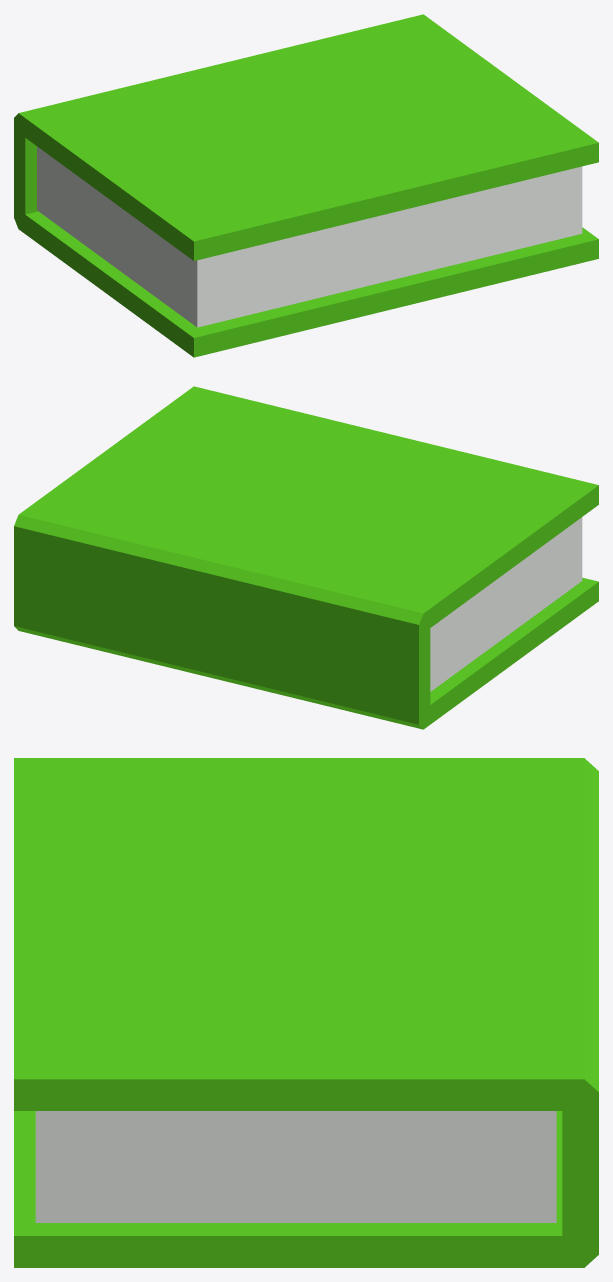
Rendered from Book_1c.fbx.
3 views of the same model, one above another, from view 1: azimuth 30°, elevation 25°; view 2: azimuth 150°, elevation 25°; view 3: azimuth 270°, elevation 25° (orthographic). The views are drawn at different scales.
Visible parts, largest first — view 1: Book_1c; view 2: Book_1c; view 3: Book_1c.
Boxes of the visible parts, x1=… form: Book_1c: x1=14, y1=14, x2=598, y2=357; Book_1c: x1=14, y1=386, x2=598, y2=729; Book_1c: x1=14, y1=758, x2=598, y2=1267.
Size of the model in its own units: 0.2083 by 0.0571 by 0.1603.
